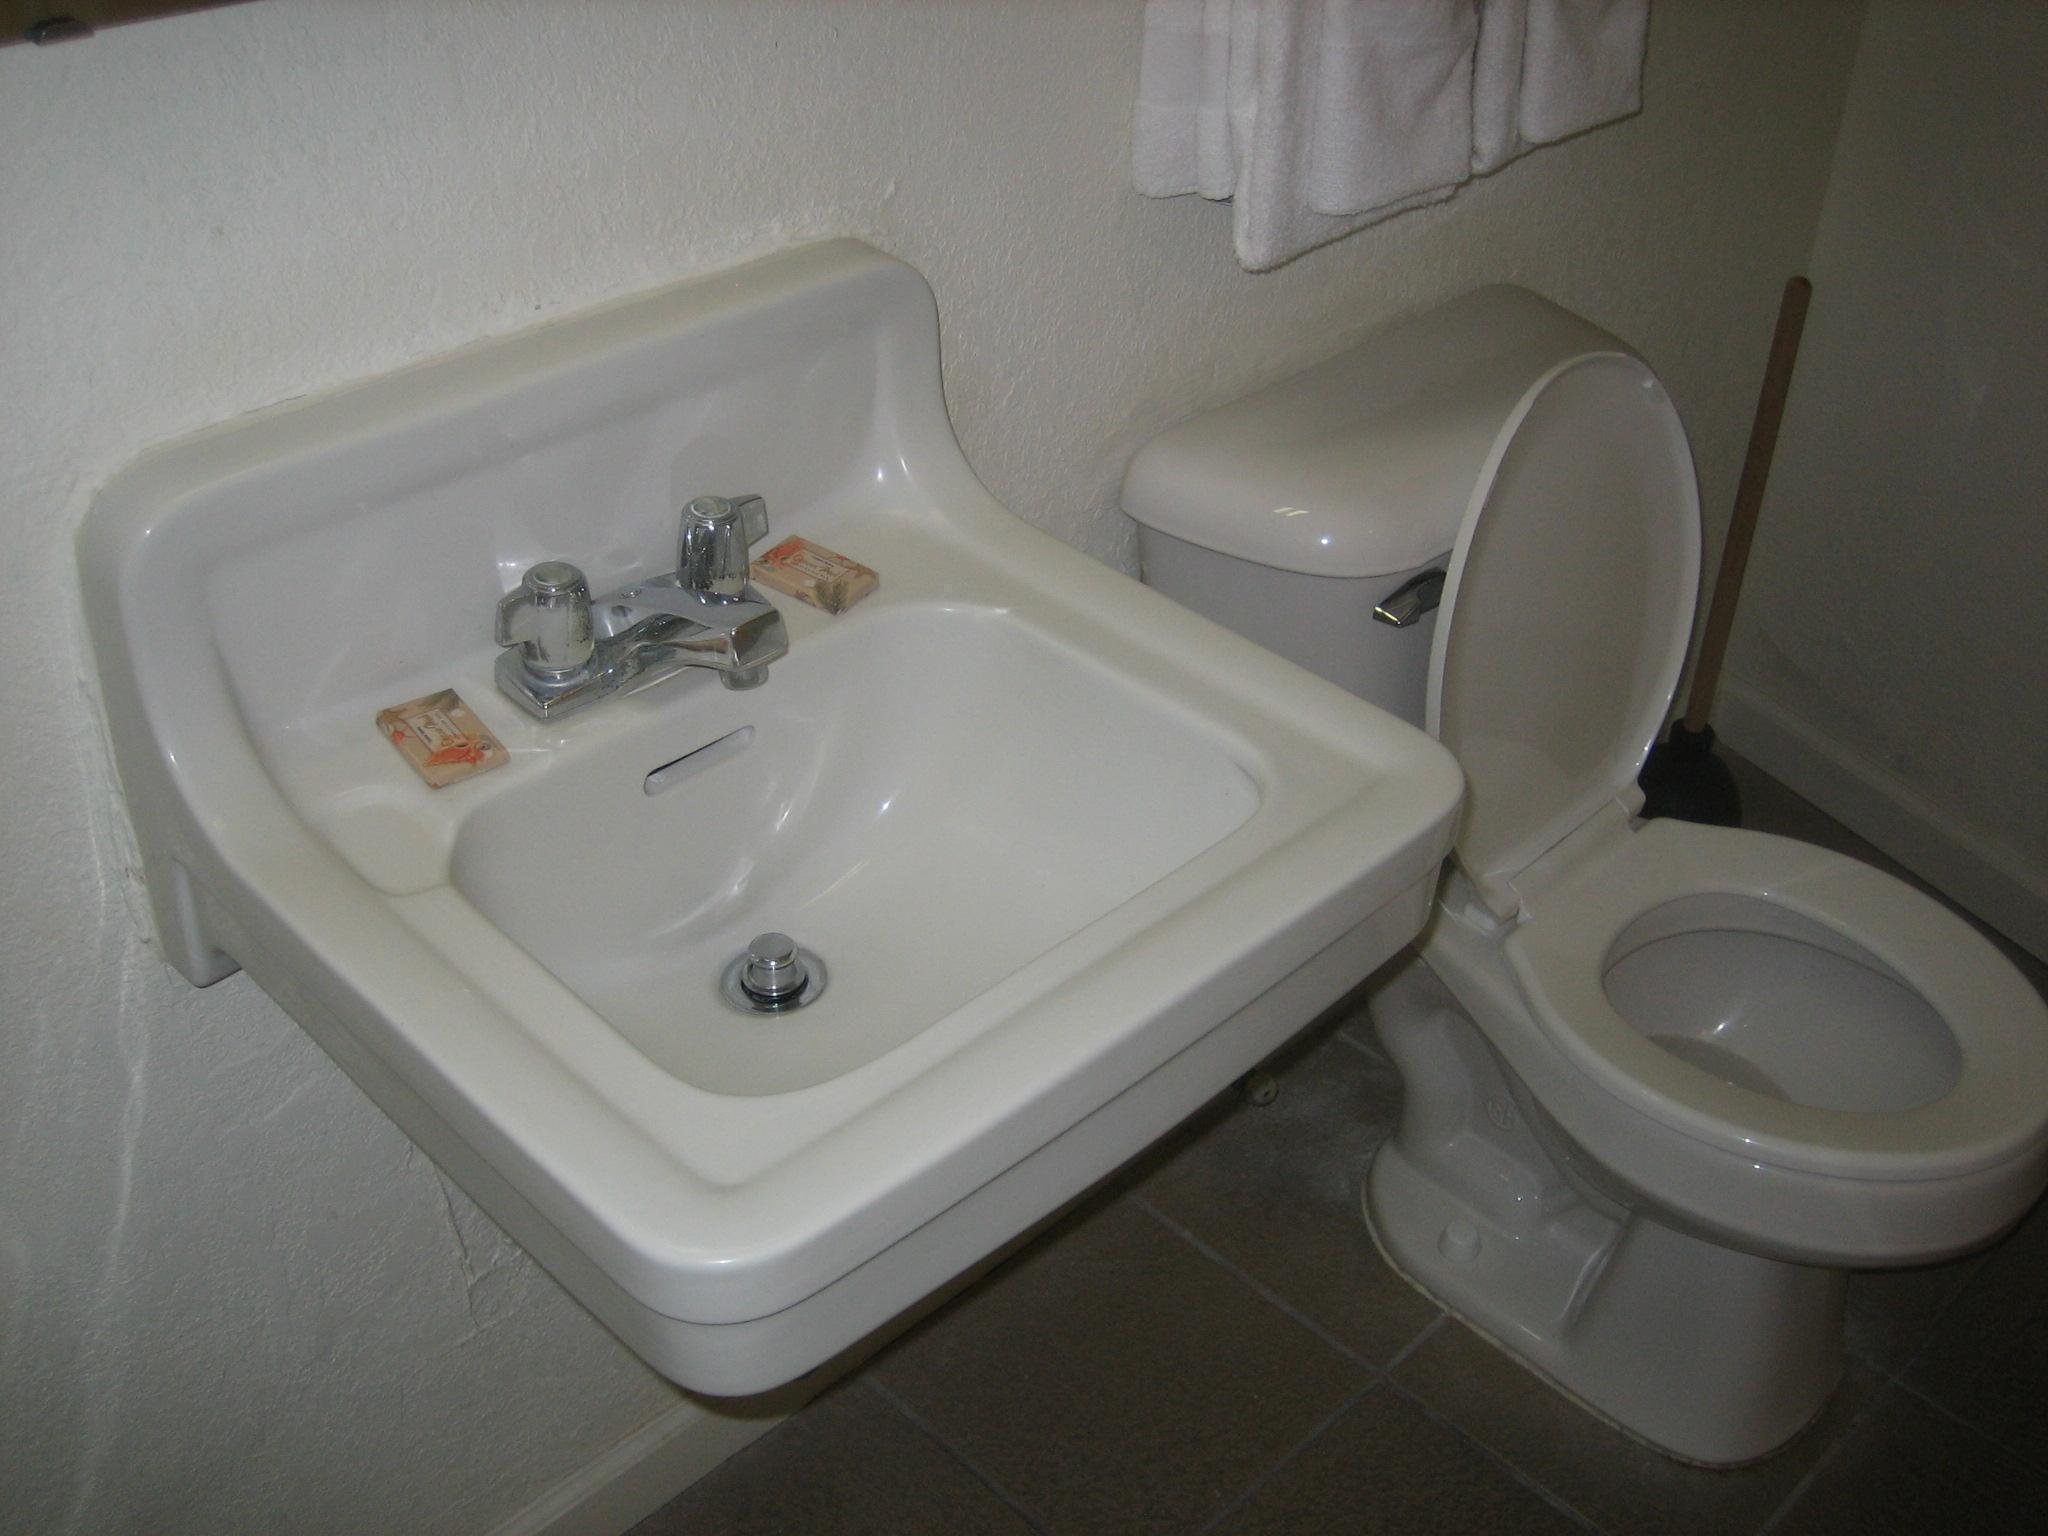Lavamanos: (84, 276, 1517, 1391)
Sanitario: (1234, 323, 2035, 1463)
